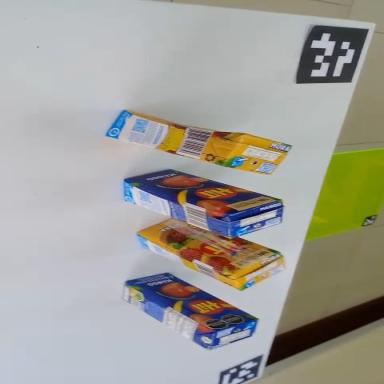HIT-MANGO: (115, 257, 259, 365), (117, 157, 286, 249)
HIT-MORA: (132, 204, 289, 302), (104, 107, 292, 178)
cara_F: (134, 204, 281, 287), (124, 258, 258, 346), (122, 157, 282, 228)
